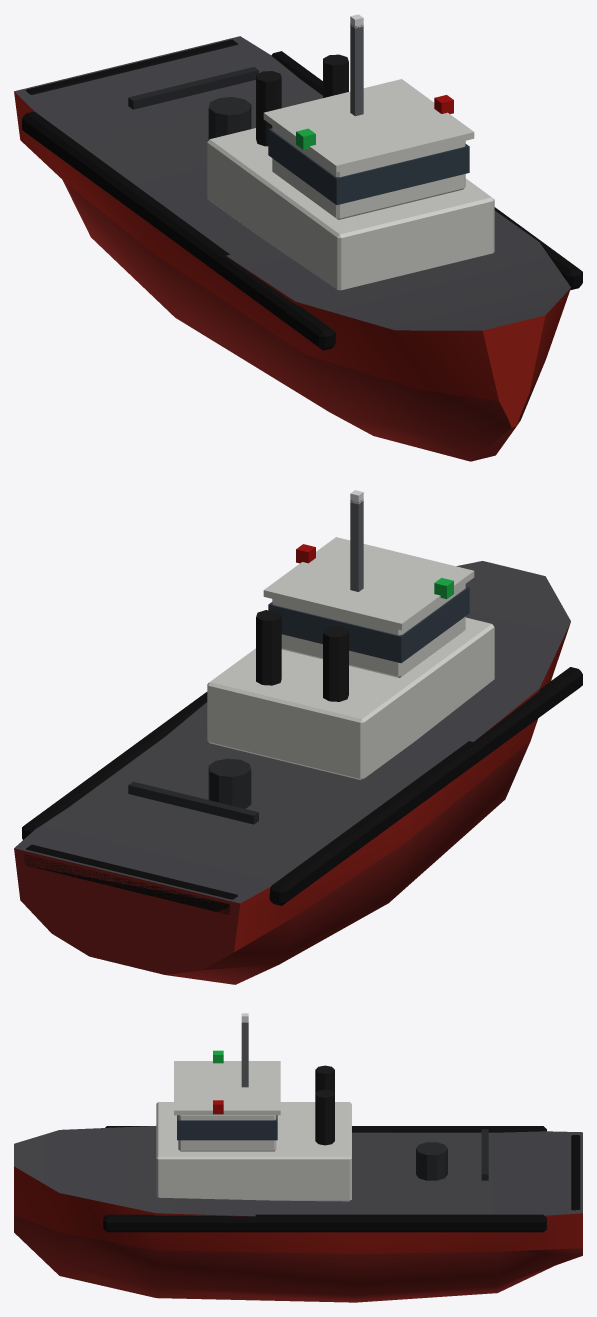
File: remorqueur.glb
3 renders of one model, top to bottom at view 1: azimuth 30°, elevation 25°; view 2: azimuth 150°, elevation 25°; view 3: azimuth 270°, elevation 25°, orthographic. The views are drawn at different scales.
Parts seen in each view (by area): view 1: remorqueur; view 2: remorqueur; view 3: remorqueur.
Part boxes in pixels (box(x1,y1,x2,y2)): remorqueur: box(14, 14, 582, 461); remorqueur: box(14, 490, 582, 984); remorqueur: box(14, 1013, 582, 1302).
Size of the model in its own units: 12.6 by 16.6 by 32.
